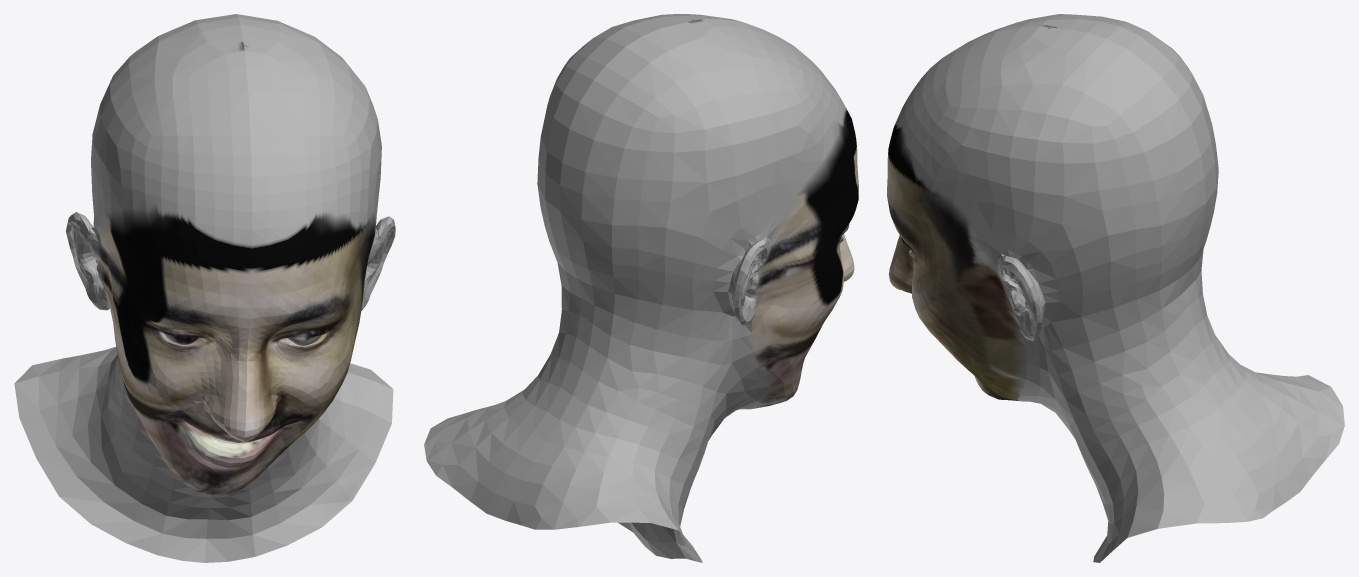
File: ezgif-frame-002.obj
The picture shows the model from 3 angles, left to right: view 1: azimuth 30°, elevation 25°; view 2: azimuth 150°, elevation 25°; view 3: azimuth 270°, elevation 25°; orthographic projection. The views are drawn at different scales.
Size of the model in its own units: 0.2118 by 0.3267 by 0.2644.
Materials: 1 (1 with a texture image).
